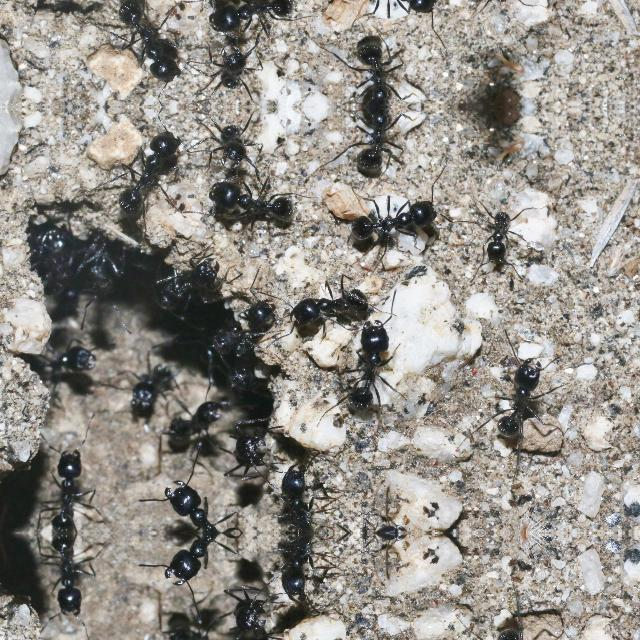Messor: (109, 118, 183, 220), (490, 348, 564, 448), (109, 0, 183, 94), (343, 190, 453, 250), (336, 312, 394, 420), (210, 167, 310, 226), (346, 106, 418, 186), (346, 26, 418, 106), (146, 474, 240, 532), (146, 532, 240, 590), (41, 444, 104, 530), (41, 534, 104, 620), (270, 454, 340, 528), (270, 536, 340, 610), (157, 248, 227, 318), (294, 282, 378, 340), (16, 210, 80, 284), (201, 120, 295, 170), (201, 42, 295, 92), (152, 394, 222, 460), (209, 0, 310, 45), (25, 332, 109, 378), (477, 199, 525, 269), (122, 358, 176, 418), (234, 296, 282, 362), (222, 416, 278, 472), (84, 226, 130, 294), (222, 592, 277, 640), (151, 604, 222, 640), (343, 0, 453, 22), (489, 615, 564, 640)
